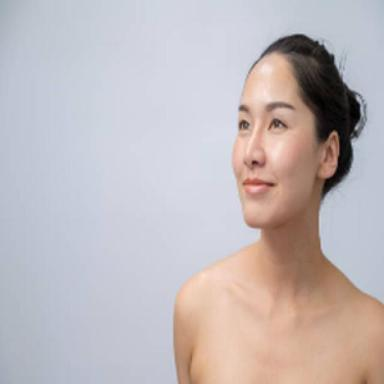normal skin: (174, 53, 384, 384)
